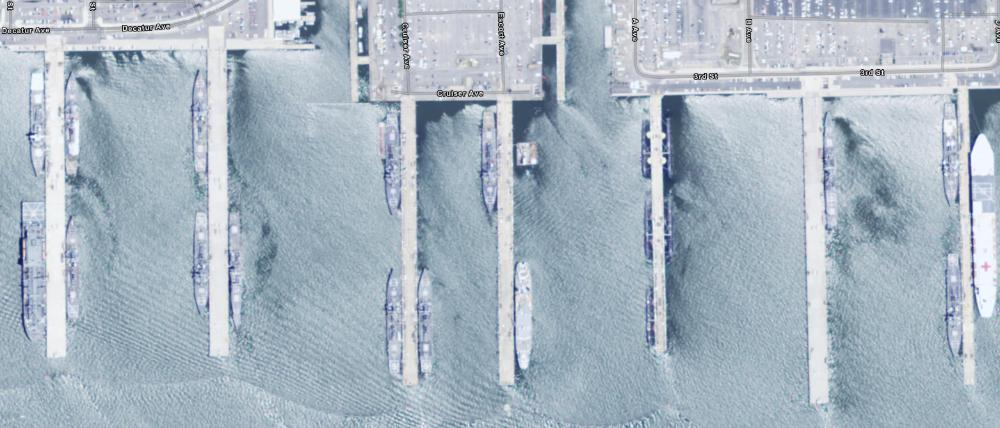cruiser: (229, 211, 245, 331)
destroyer: (824, 109, 843, 231)
fregate: (61, 73, 87, 181), (184, 67, 209, 178), (478, 109, 501, 227), (381, 112, 405, 219), (382, 268, 405, 374), (190, 210, 213, 316), (63, 216, 84, 322), (27, 73, 47, 178), (941, 101, 960, 210), (948, 253, 966, 366), (418, 268, 435, 381)
submarine: (640, 191, 658, 262), (646, 286, 660, 351), (664, 194, 677, 264), (664, 117, 678, 181), (639, 119, 651, 178)
supply: (970, 130, 1000, 325), (18, 202, 50, 348)
